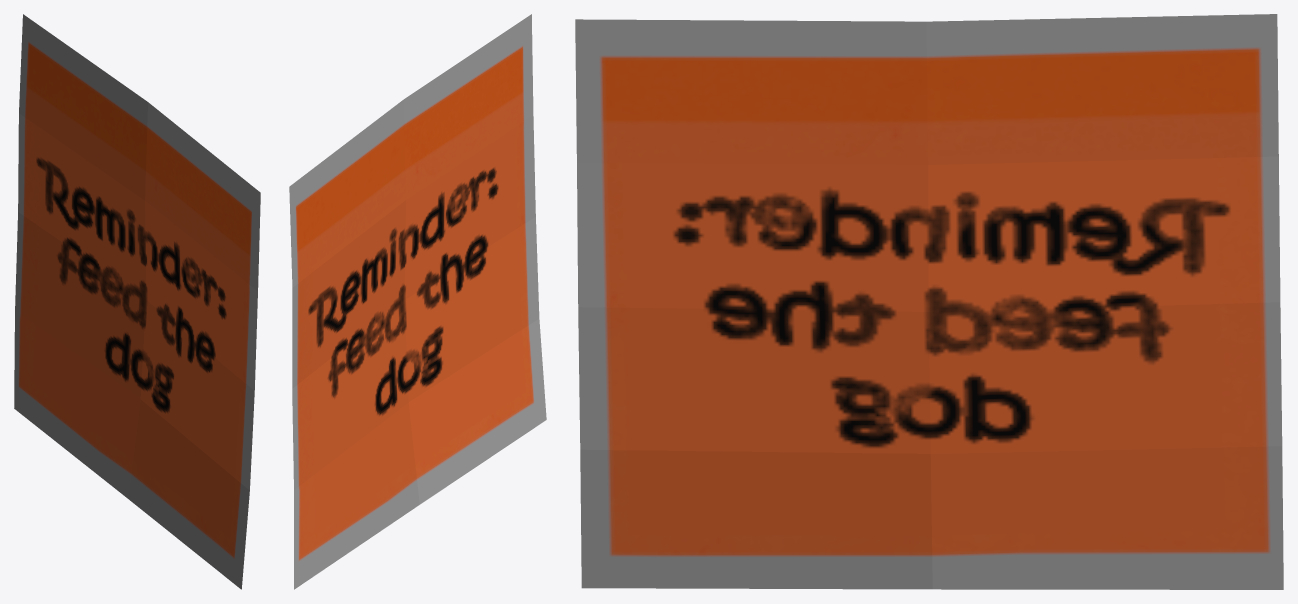
The model's file is SM_Sticker_A2.fbx.
3 renders of one model, left to right at view 1: azimuth 30°, elevation 25°; view 2: azimuth 150°, elevation 25°; view 3: azimuth 270°, elevation 25°, orthographic. The views are drawn at different scales.
Parts seen in each view (by area): view 1: SM_Sticker_A2; view 2: SM_Sticker_A2; view 3: SM_Sticker_A2.
Part boxes in pixels (x1=…): SM_Sticker_A2: x1=14, y1=14, x2=260, y2=589; SM_Sticker_A2: x1=289, y1=14, x2=546, y2=589; SM_Sticker_A2: x1=575, y1=14, x2=1283, y2=589.
Bounding box in the file's own units: 0.5462 × 9.68 × 8.85.
Materials: 1 (1 with a texture image).
